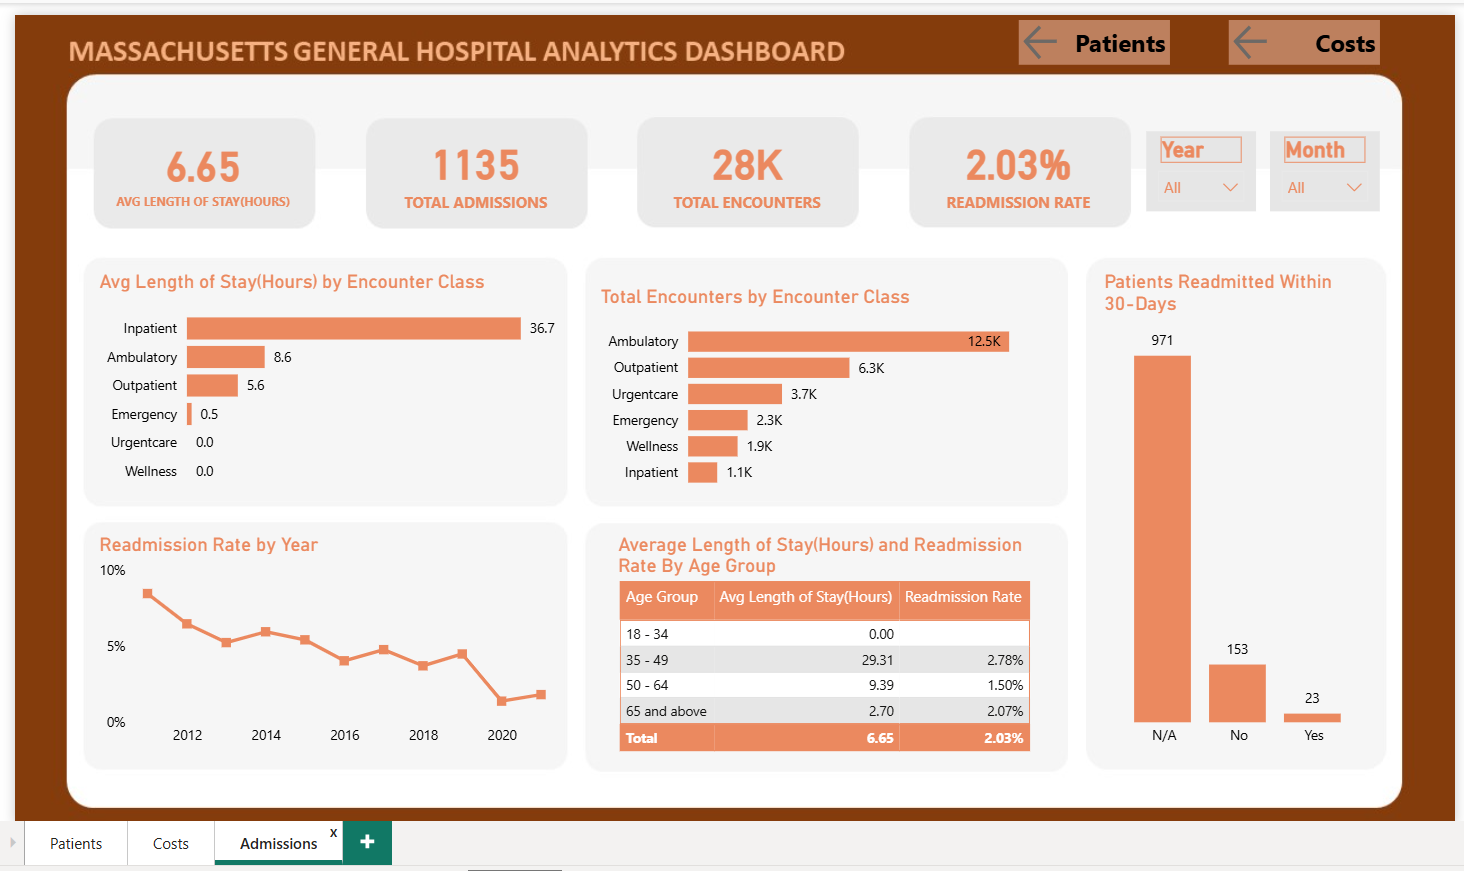

The page's visual inventory and layout, read from the dashboard file:
{"tool":"powerbi","page":{"name":"Admissions","canvas":[1280,720],"ordinal":2},"visuals":[{"type":"card","fields":{"Values":["encounters.Readmission Rate"]},"box":[805.5,97.4,172.9,82.3],"z":0},{"type":"card","fields":{"Values":["encounters.Total Admission"]},"box":[323.8,97.4,172.9,82.3],"z":1000},{"type":"card","fields":{"Values":["encounters.Total Encounters"]},"box":[564,97.4,172.9,82.3],"z":2000},{"type":"card","fields":{"Values":["encounters.Avg Length of Stay(Hours)"]},"box":[81,97.4,172.9,82.3],"z":3000},{"type":"clusteredBarChart","title":"Avg Length of Stay(Hours) by Encounter Class","fields":{"Category":["encounters.ENCOUNTER_CLASS"],"Y":["encounters.Avg Length of Stay"]},"box":[70,226.4,415.8,204.5],"z":4000},{"type":"clusteredBarChart","title":"Total Encounters by Encounter Class","fields":{"Category":["encounters.ENCOUNTER_CLASS"],"Y":["encounters.Total Encounters"]},"box":[516,240.1,410.3,190.7],"z":5000},{"type":"lineChart","fields":{"Y":["encounters.Readmission Rate"],"Category":["encounters.ENCOUNTER_START.Variation.Date Hierarchy.Year"]},"box":[70,459.7,415.8,199],"z":6000},{"type":"clusteredColumnChart","title":"Patients Readmitted Within 30-Days","fields":{"Category":["encounters.30-Days Readmit Flag"],"Y":["Count(encounters.PATIENT_ID)"]},"box":[963.3,226.4,249.7,432.2],"z":7000},{"type":"tableEx","title":"Average Length of Stay(Hours) and Readmission Rate By Age Group","fields":{"Values":["patients.Age Group","encounters.Avg Length of Stay(Hours)","encounters.Readmission Rate"]},"box":[531,459.7,382.8,209.9],"z":8000},{"type":"slicer","fields":{"Values":["encounters.Year"]},"box":[1005.8,102.9,97.4,71.4],"z":9000},{"type":"slicer","fields":{"Values":["encounters.Month"]},"box":[1115.6,102.9,97.4,71.4],"z":10000},{"type":"actionButton","box":[891.9,4.1,134.5,39.8],"z":11000},{"type":"actionButton","box":[1078.6,4.1,134.5,39.8],"z":12000}]}

Visuals, with their boxes on the page's 1280x720 design canvas (x1, y1, x2, y2). These are canvas units, not pixel positions in the 1464x871 screenshot, which may show the page scaled, cropped or inside an application window:
card - encounters.Readmission Rate: 806,97,978,180
card - encounters.Total Admission: 324,97,497,180
card - encounters.Total Encounters: 564,97,737,180
card - encounters.Avg Length of Stay(Hours): 81,97,254,180
"Avg Length of Stay(Hours) by Encounter Class" clusteredBarChart: 70,226,486,431
"Total Encounters by Encounter Class" clusteredBarChart: 516,240,926,431
lineChart - encounters.Readmission Rate x encounters.ENCOUNTER_START.Variation.Date Hierarchy.Year: 70,460,486,659
"Patients Readmitted Within 30-Days" clusteredColumnChart: 963,226,1213,659
"Average Length of Stay(Hours) and Readmission Rate By Age Group" tableEx: 531,460,914,670
slicer - encounters.Year: 1006,103,1103,174
slicer - encounters.Month: 1116,103,1213,174
actionButton: 892,4,1026,44
actionButton: 1079,4,1213,44
